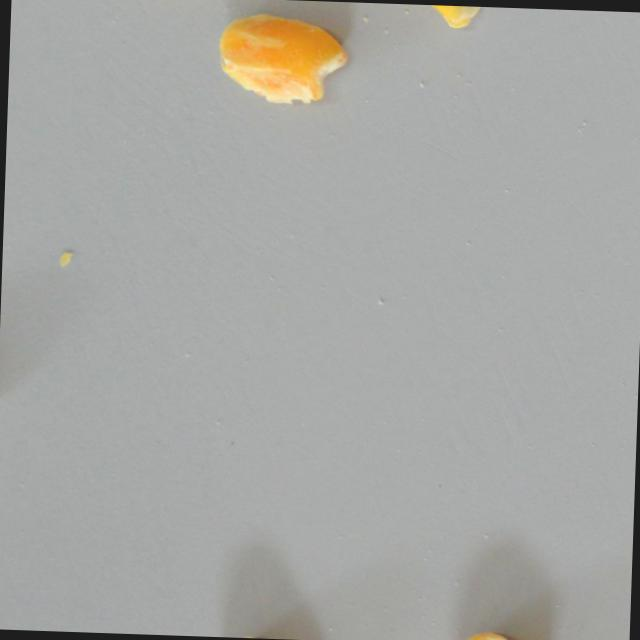dañado: (208, 7, 353, 111), (384, 2, 492, 33), (439, 623, 553, 640)
